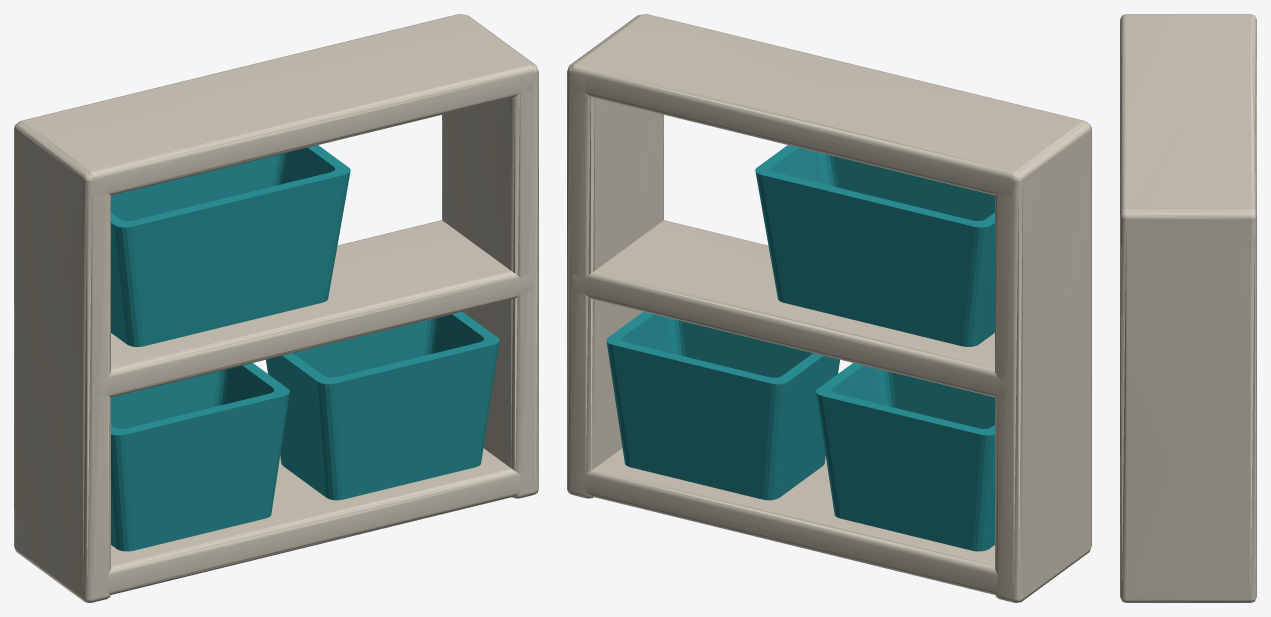
The model's file is 10_standard_wall_shelf.glb.
3 views of the same model, side by side, from view 1: azimuth 30°, elevation 25°; view 2: azimuth 150°, elevation 25°; view 3: azimuth 270°, elevation 25° (orthographic). The views are drawn at different scales.
Visible parts, largest first — view 1: 10_standard_wall_shelf__Static; view 2: 10_standard_wall_shelf__Static; view 3: 10_standard_wall_shelf__Static.
Boxes of the visible parts, <box> form: 10_standard_wall_shelf__Static: <box>14,14,538,602</box>; 10_standard_wall_shelf__Static: <box>567,14,1091,602</box>; 10_standard_wall_shelf__Static: <box>1120,14,1256,602</box>.
Bounding box in the file's own units: 1.09 × 0.9825 × 0.31.
